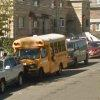Car: (2, 48, 26, 97)
